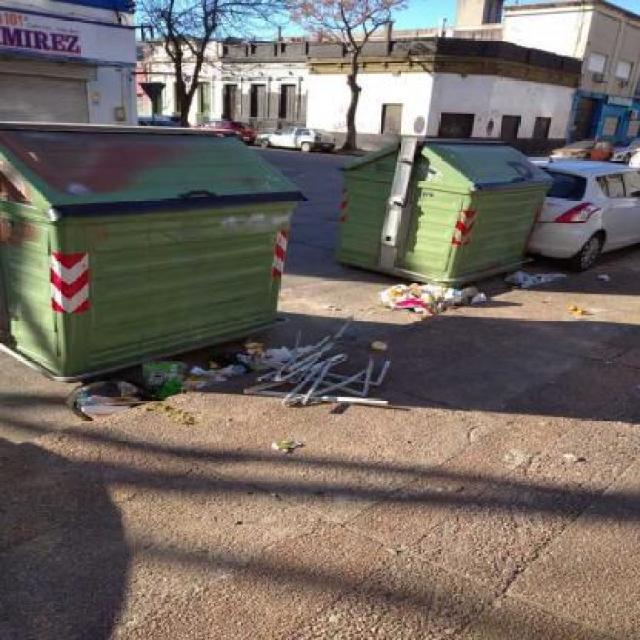garbage: (0, 328, 536, 440), (354, 260, 602, 338)
